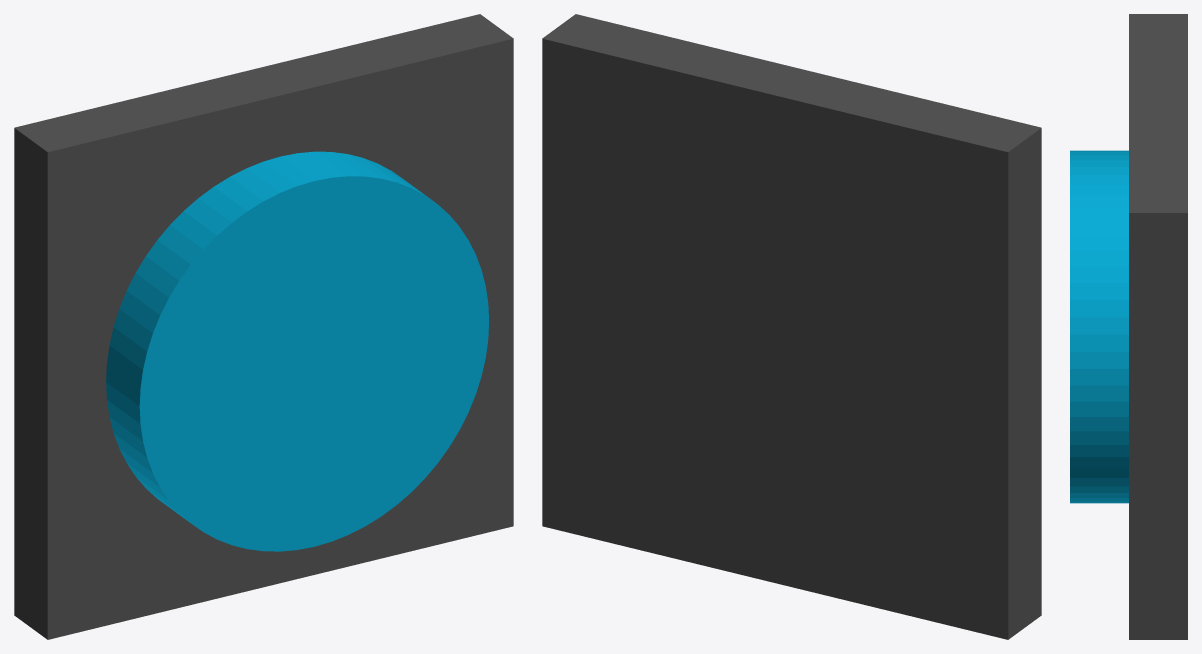
Rendered from sql_programming_language.glb.
3 views of the same model, side by side, from view 1: azimuth 30°, elevation 25°; view 2: azimuth 150°, elevation 25°; view 3: azimuth 270°, elevation 25° (orthographic). The views are drawn at different scales.
Visible parts, largest first — view 1: world; view 2: world; view 3: world.
Part boxes in pixels (x1,y1,x2,y2): world: (14, 14, 513, 639); world: (542, 14, 1041, 639); world: (1070, 14, 1187, 639).
Bounding box in the file's own units: 1.6 × 1.6 × 0.4.
